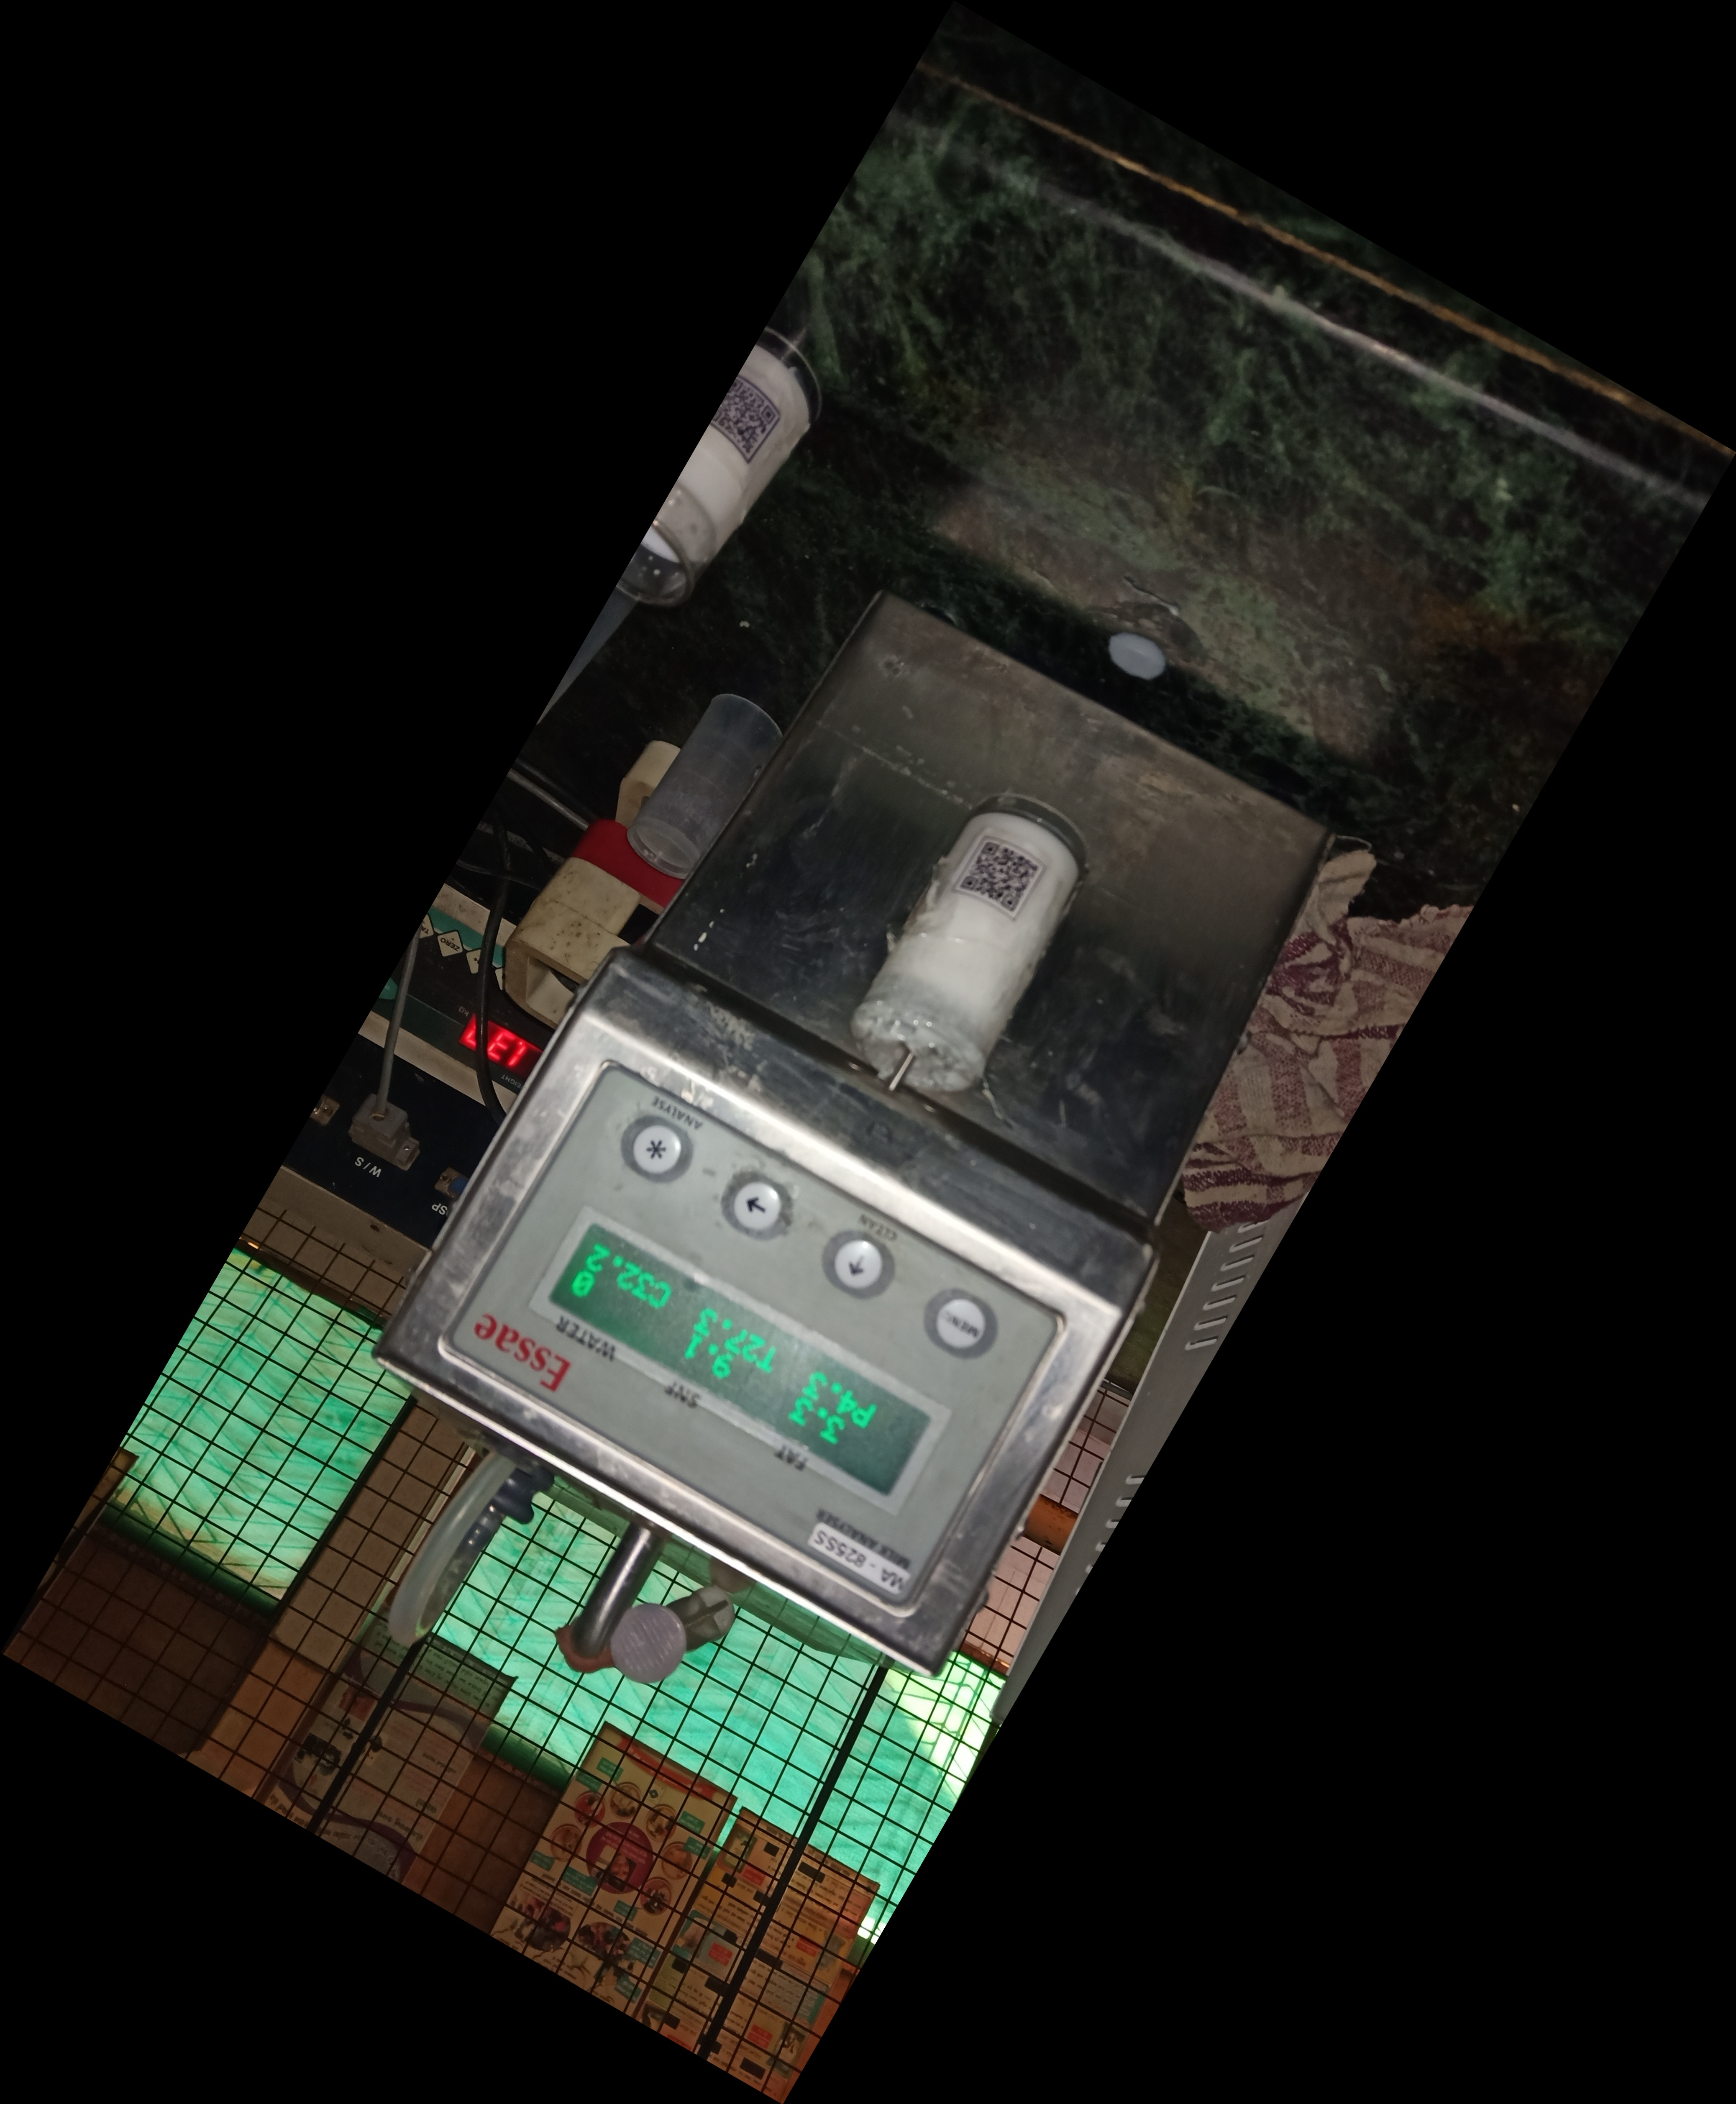lcd: (519, 1204, 950, 1538)
qr: (688, 360, 791, 470), (940, 820, 1037, 926)
